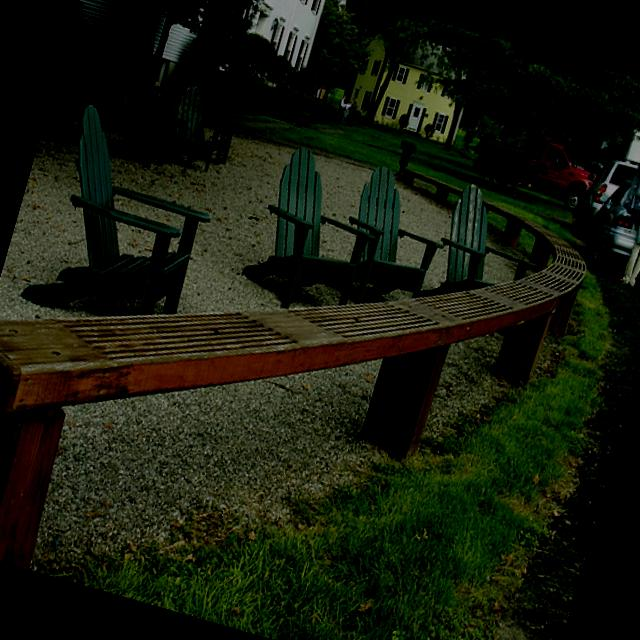Vehicle: (458, 114, 602, 214), (576, 149, 640, 288), (568, 152, 638, 250), (623, 127, 640, 171)
